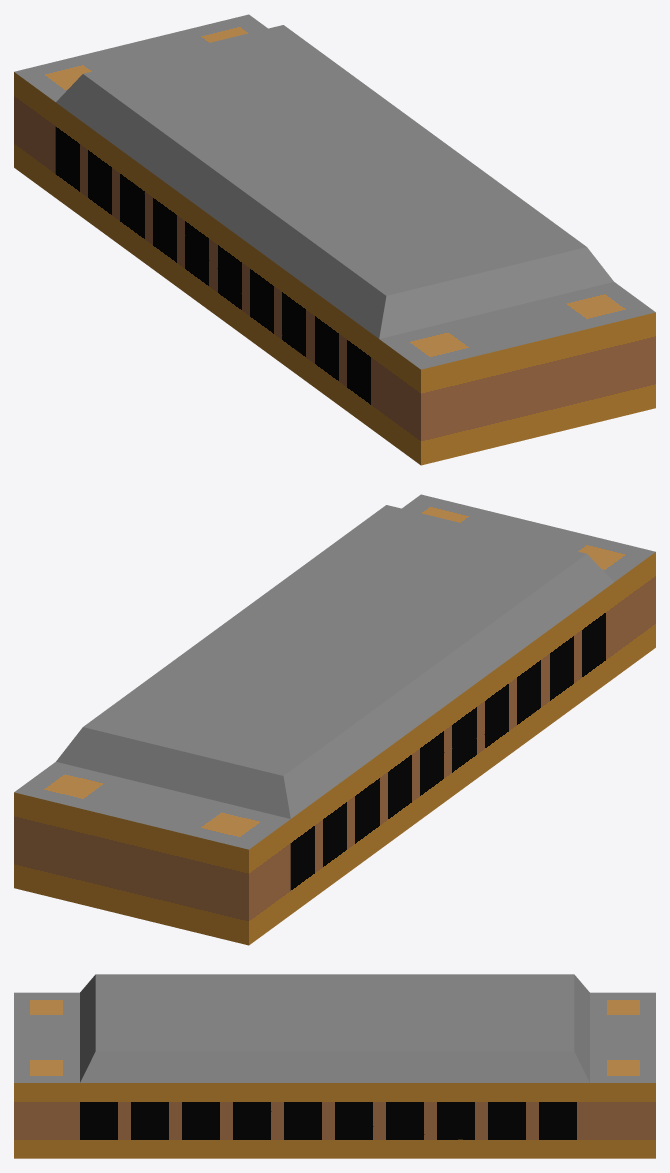
Rendered from harmonica.glb.
The picture shows the model from 3 angles, top to bottom: view 1: azimuth 30°, elevation 25°; view 2: azimuth 150°, elevation 25°; view 3: azimuth 270°, elevation 25°; orthographic projection. The views are drawn at different scales.
Parts seen in each view (by area): view 1: Cube; view 2: Cube; view 3: Cube.
Boxes of the visible parts, box(x1,y1,x2,y2) form: Cube: box(14, 14, 655, 465); Cube: box(14, 494, 655, 945); Cube: box(14, 974, 655, 1158).
Size of the model in its own units: 5 by 2.59 by 15.
Materials: 1 (1 with a texture image).
